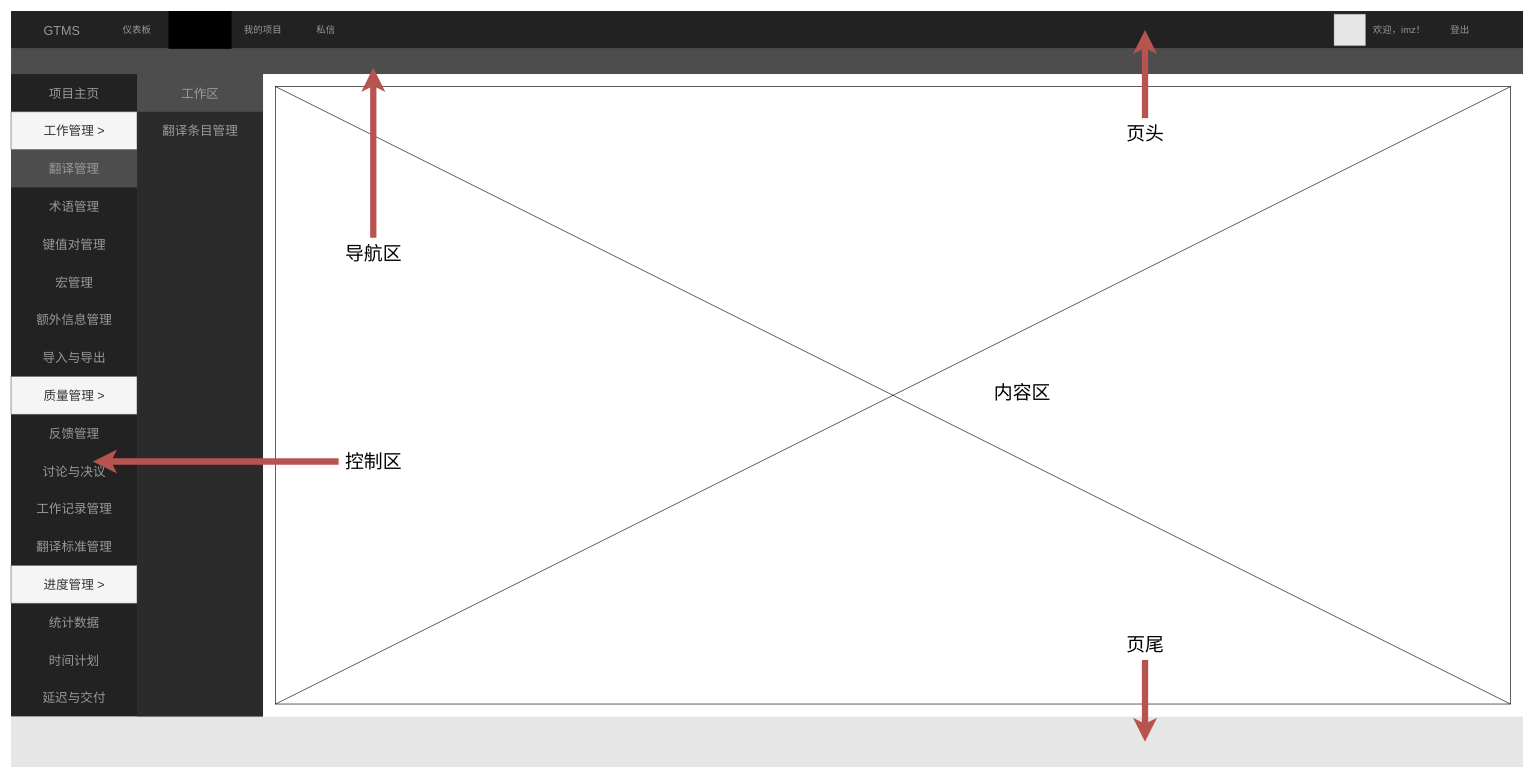
Some shapes in this 1534 by 777 pixel diagram are drawn without their labels. Grey dashed boxes stand in for pictures. Each missing label, with the centre of its shape:
"Yifan Xu 毕业设计 @天津工业大学" belongs at (767,741).
"示例中文化项目01 / 翻译管理 / 工作区" belongs at (767,61).
"项目浏览" belongs at (199,30).
